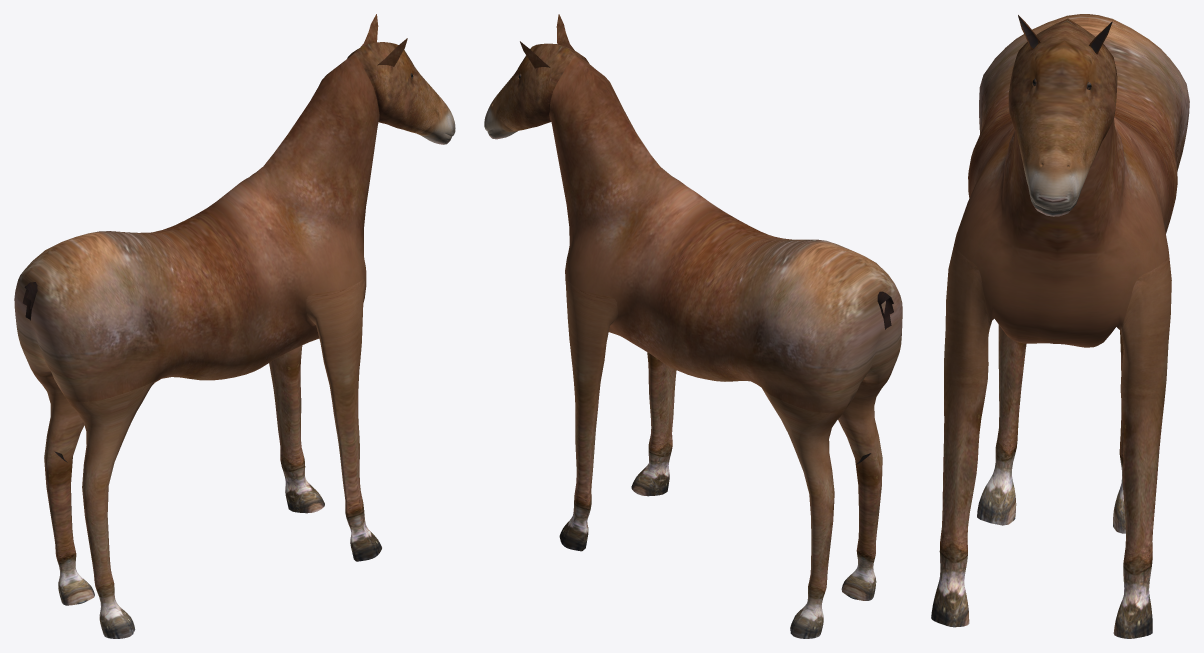
Rendered from corp.obj.
3 renders of one model, left to right at view 1: azimuth 30°, elevation 25°; view 2: azimuth 150°, elevation 25°; view 3: azimuth 270°, elevation 25°, orthographic. The views are drawn at different scales.
Parts seen in each view (by area): view 1: HORSE_3D_Models.001_HORSE_3D_Models.001; view 2: HORSE_3D_Models.001_HORSE_3D_Models.001; view 3: HORSE_3D_Models.001_HORSE_3D_Models.001.
Boxes of the visible parts, x1=… form: HORSE_3D_Models.001_HORSE_3D_Models.001: x1=14, y1=14, x2=455, y2=638; HORSE_3D_Models.001_HORSE_3D_Models.001: x1=484, y1=14, x2=902, y2=638; HORSE_3D_Models.001_HORSE_3D_Models.001: x1=931, y1=14, x2=1189, y2=638.
Size of the model in its own units: 2.07 by 2.48 by 0.8251.
Materials: 1 (1 with a texture image).
